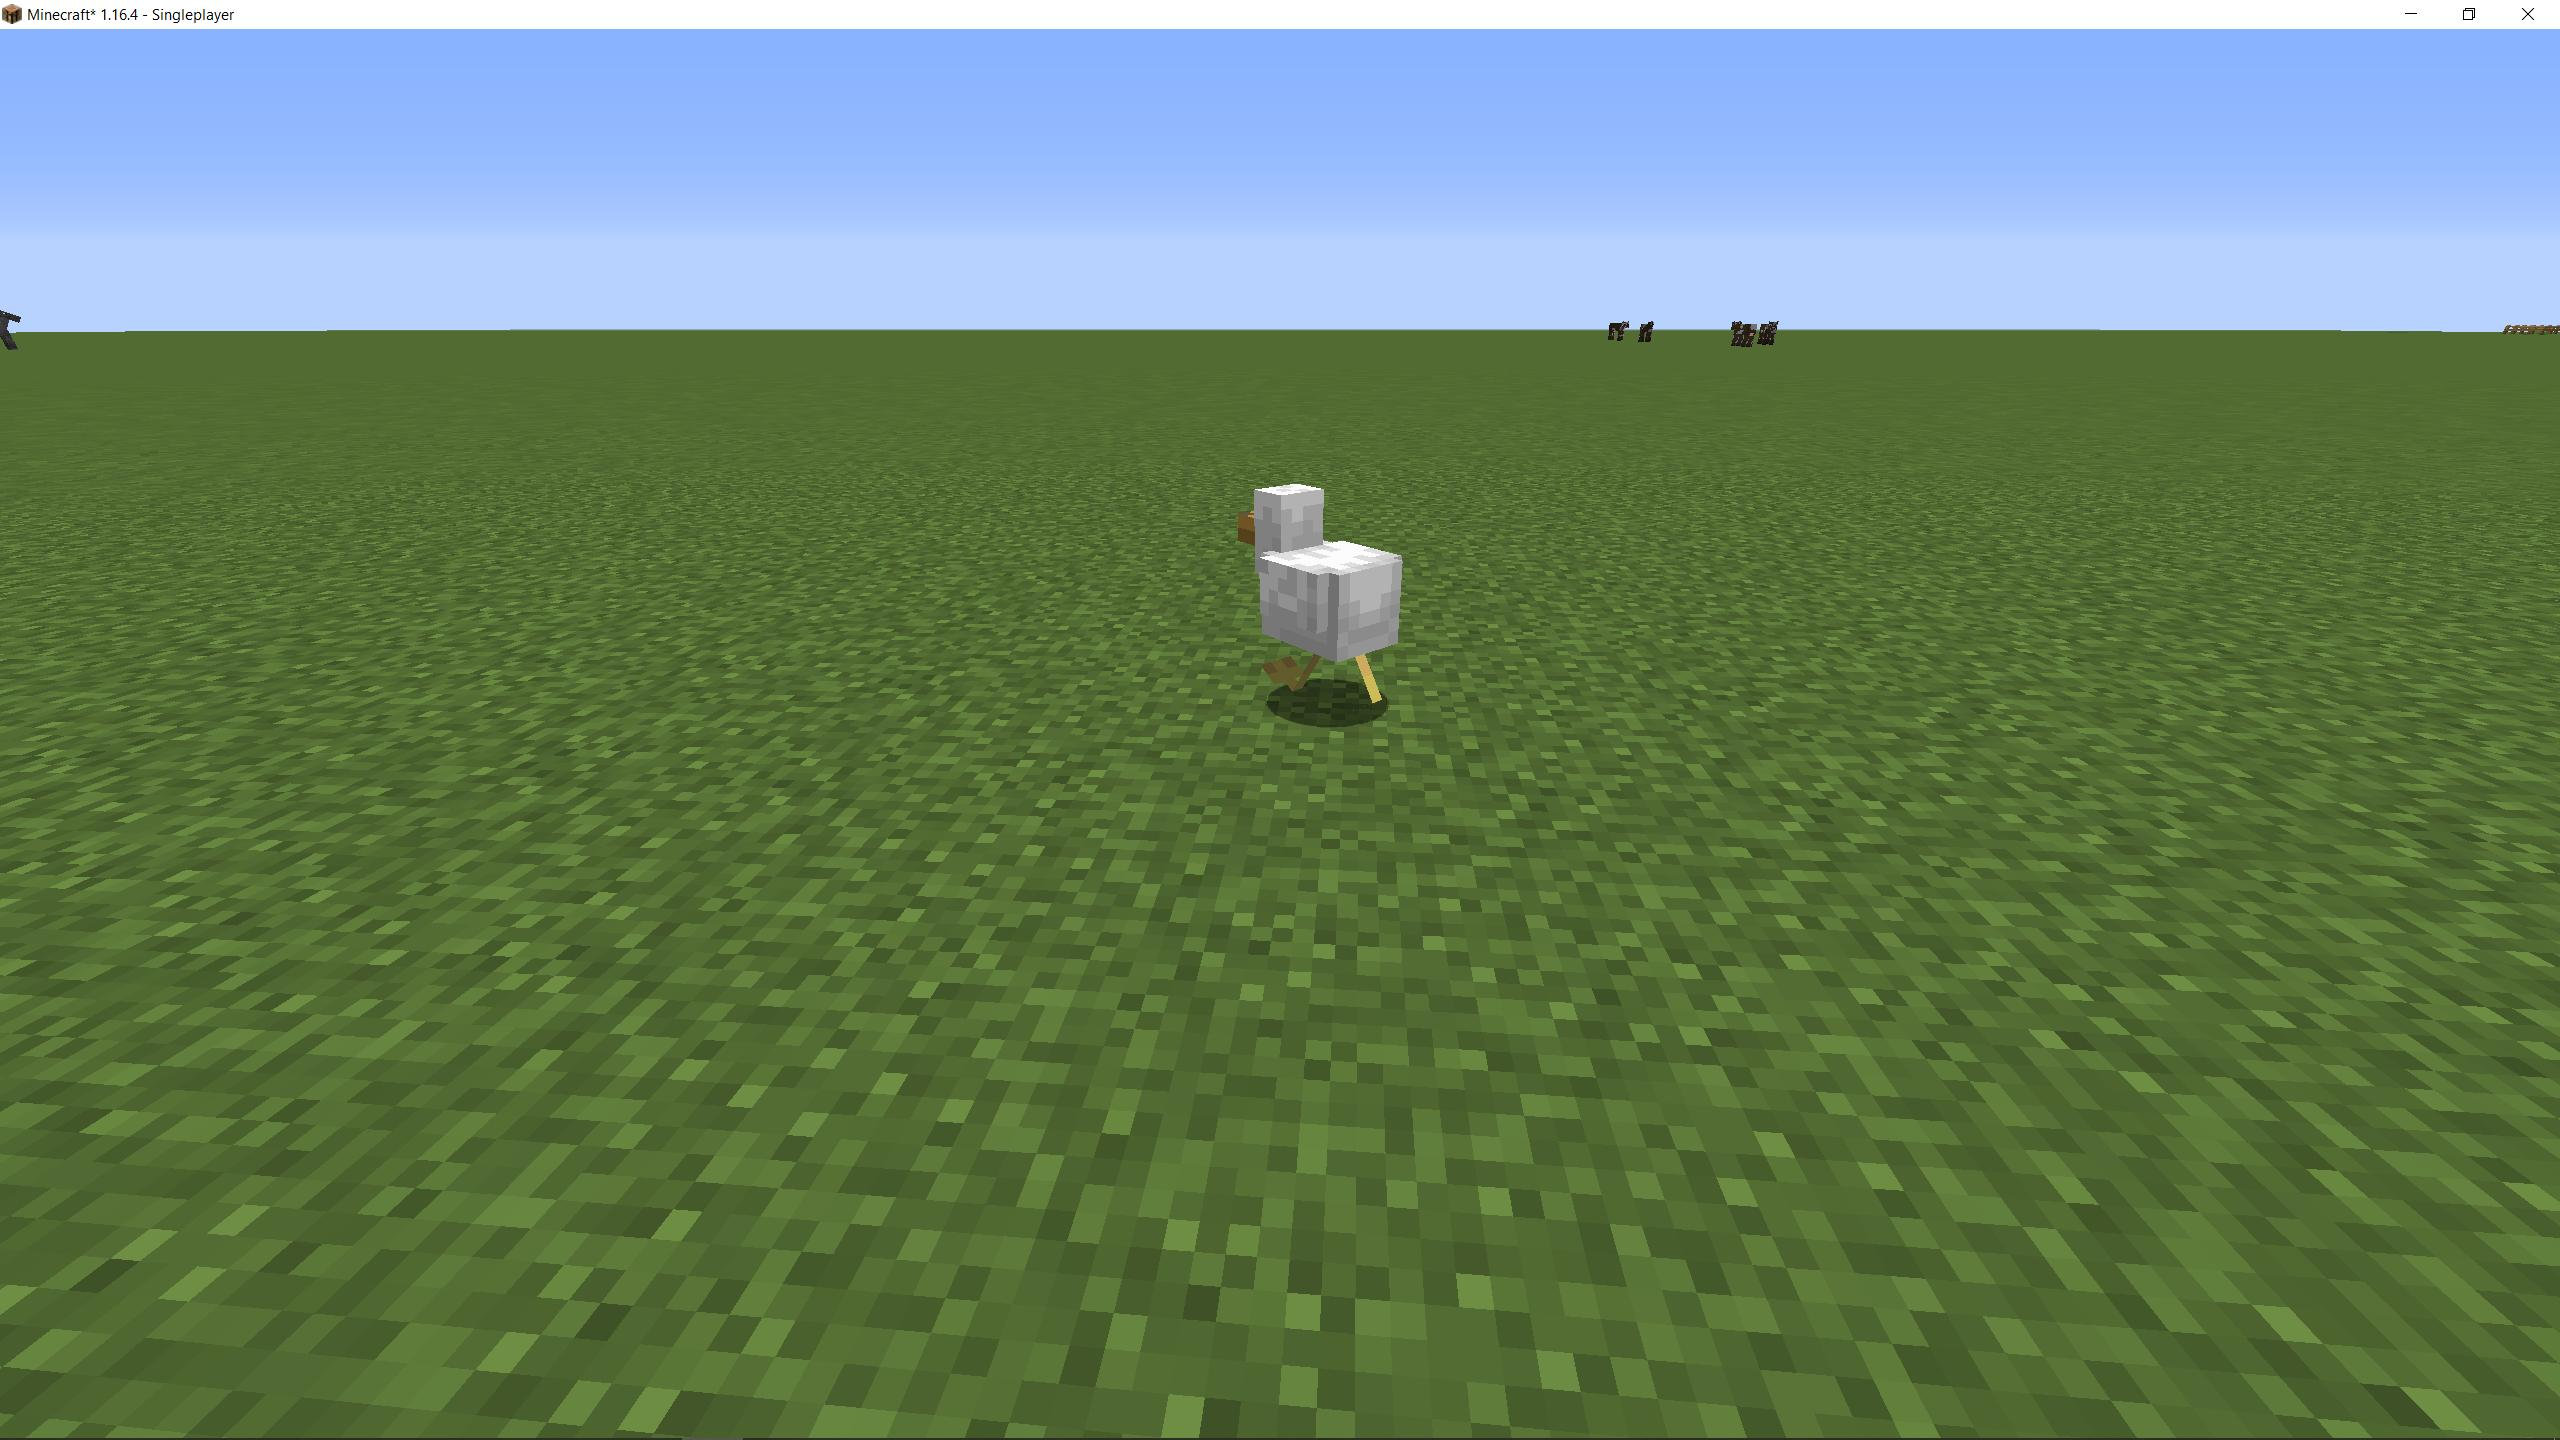chicken: (1227, 469, 1407, 719)
